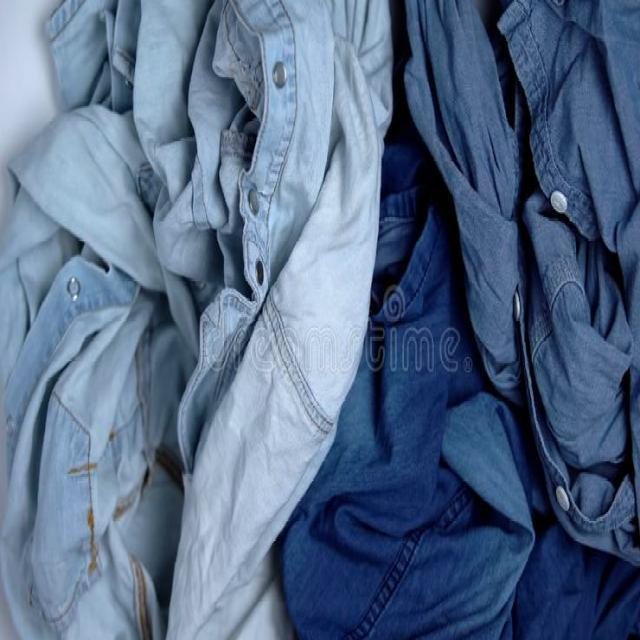clothes: (31, 28, 623, 617)
